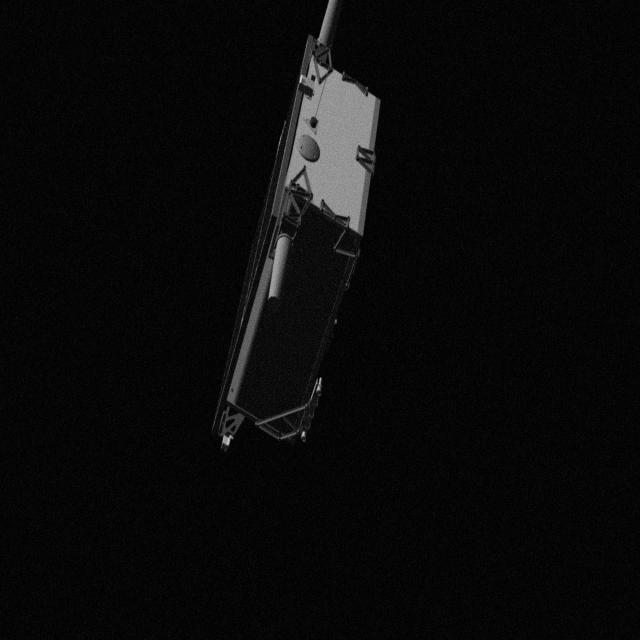medium_debris: (212, 2, 386, 460)
